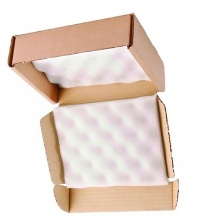foam_box: (47, 90, 170, 191), (25, 43, 154, 92)
